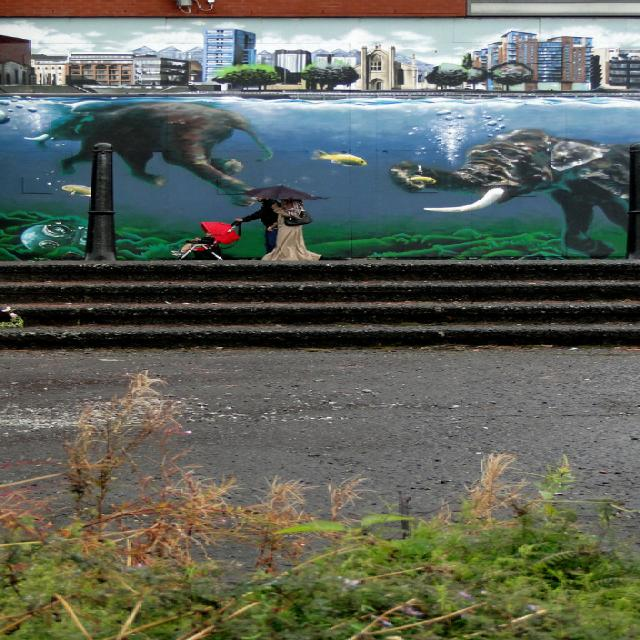elephant: (384, 115, 634, 249), (52, 103, 297, 218)
